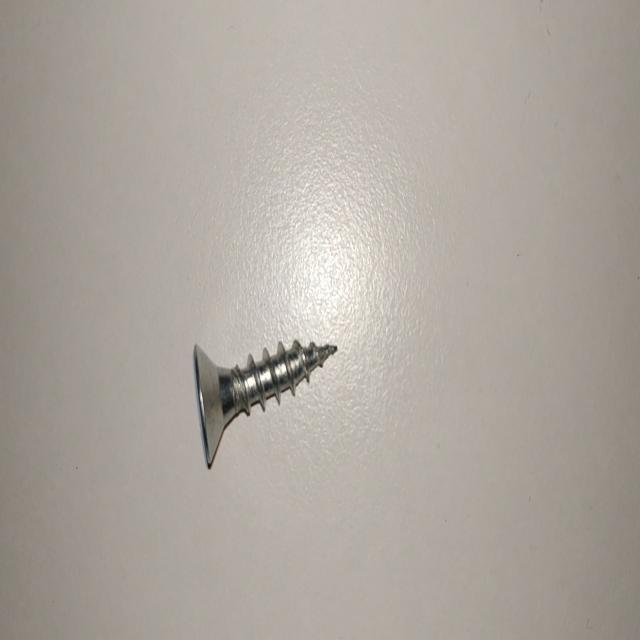Screw: (193, 340, 337, 468)
